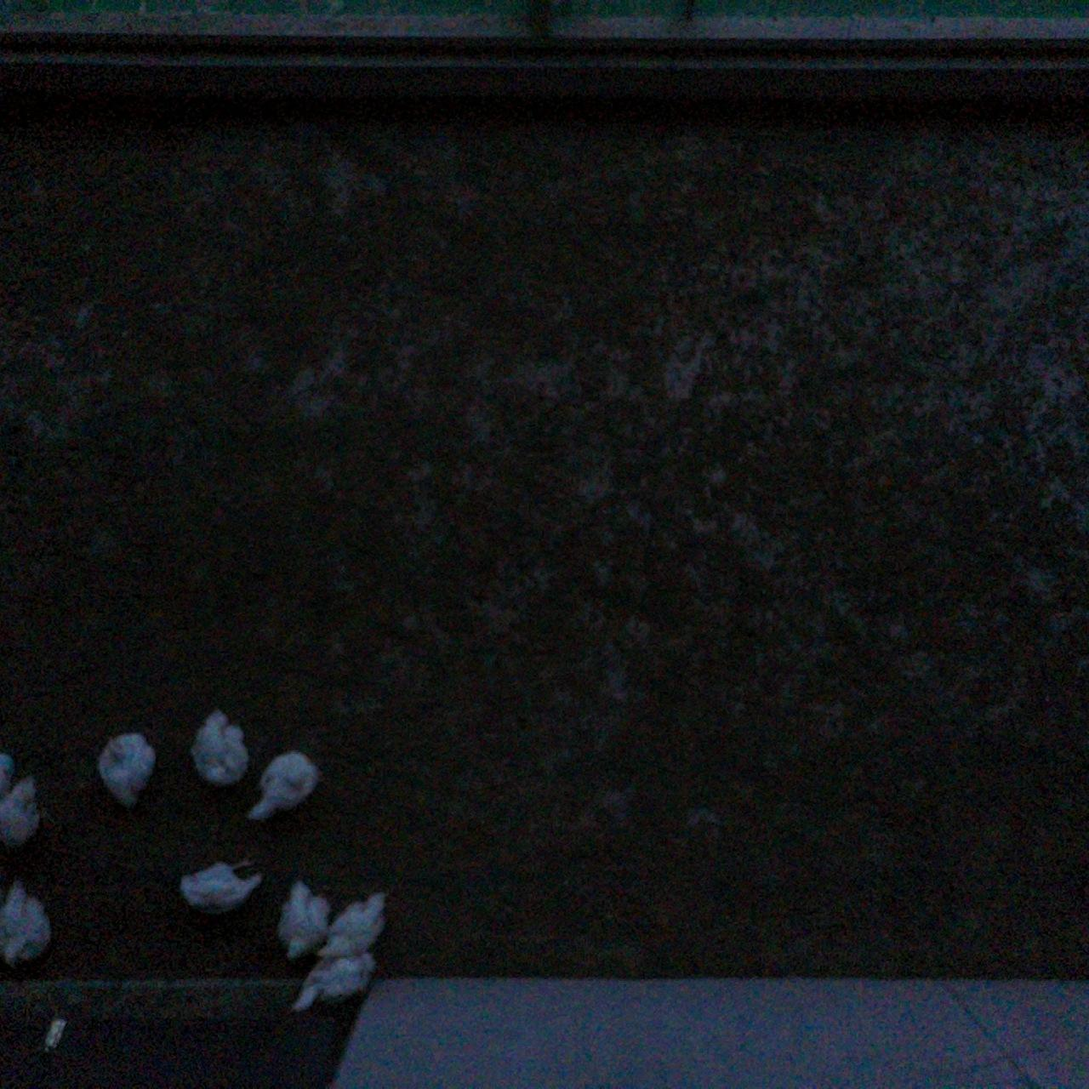chicken: (242, 745, 326, 826), (312, 888, 393, 966), (292, 949, 379, 1016), (95, 728, 162, 810), (272, 879, 339, 960), (180, 854, 265, 913), (190, 706, 251, 786), (0, 881, 53, 970), (0, 771, 44, 850), (0, 751, 20, 810)
